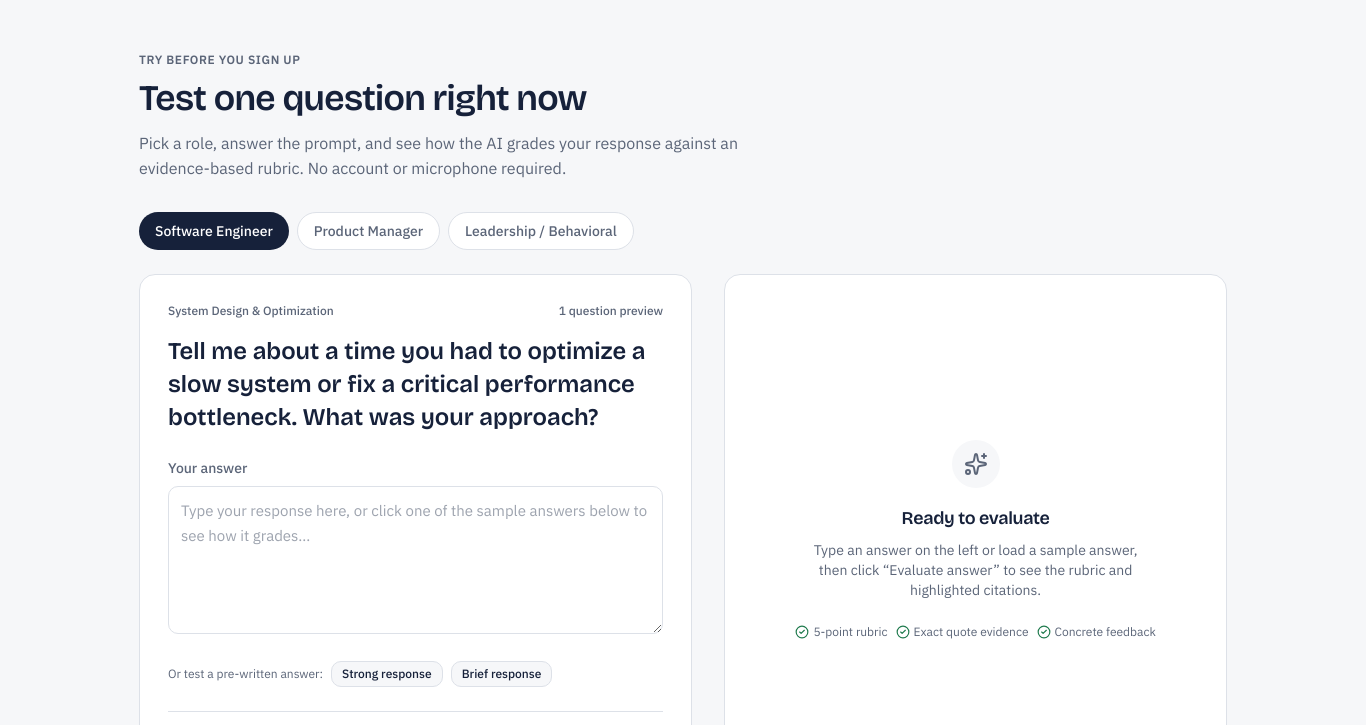
SampleQuestionPreview › loads a sample answer and evaluates it against the rubric
The image size is (1366, 725).
expect the heading "Test one question right now" is shown: met, box [139,77,587,120]
expect the heading "Ready to evaluate" is shown: met, box [902,504,1050,532]
# Click "Strong response"
Click the button "Strong response": (387, 674) [331,661,443,687]
(page scrolled)
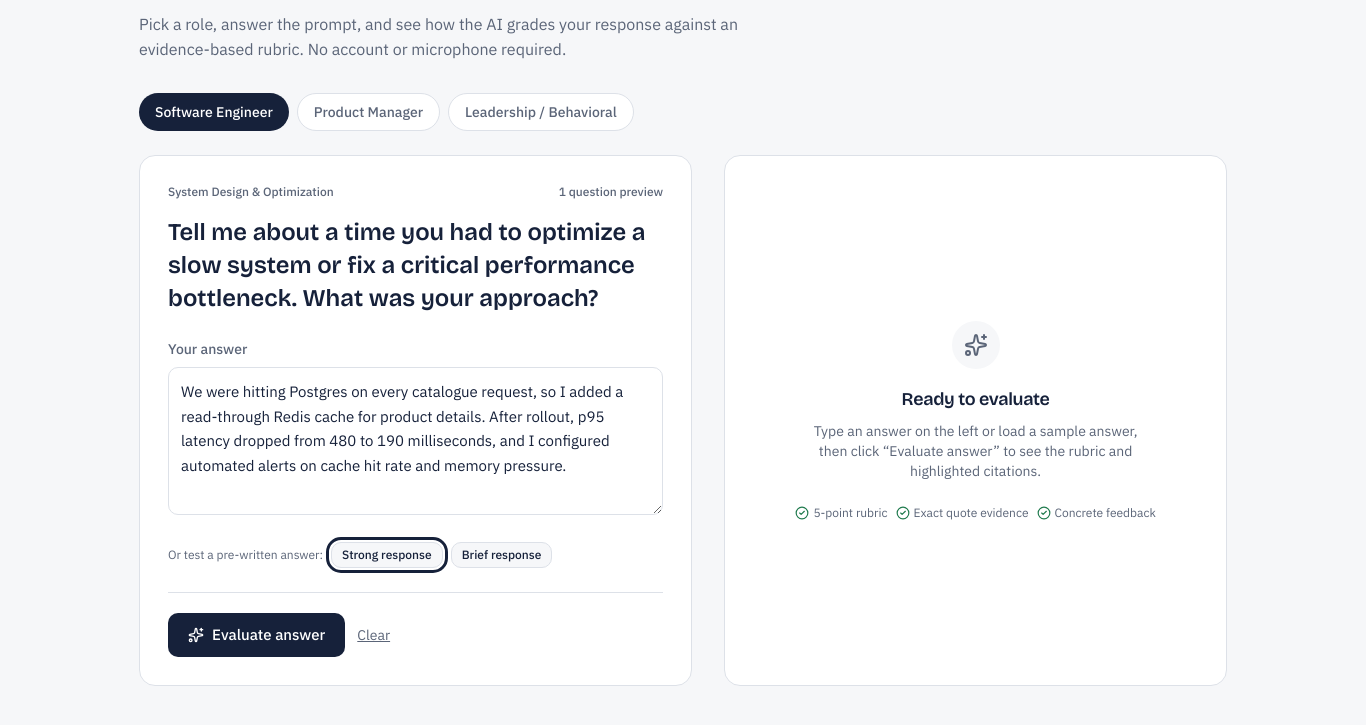
Click the button "Evaluate answer": (257, 635) [168,613,345,657]
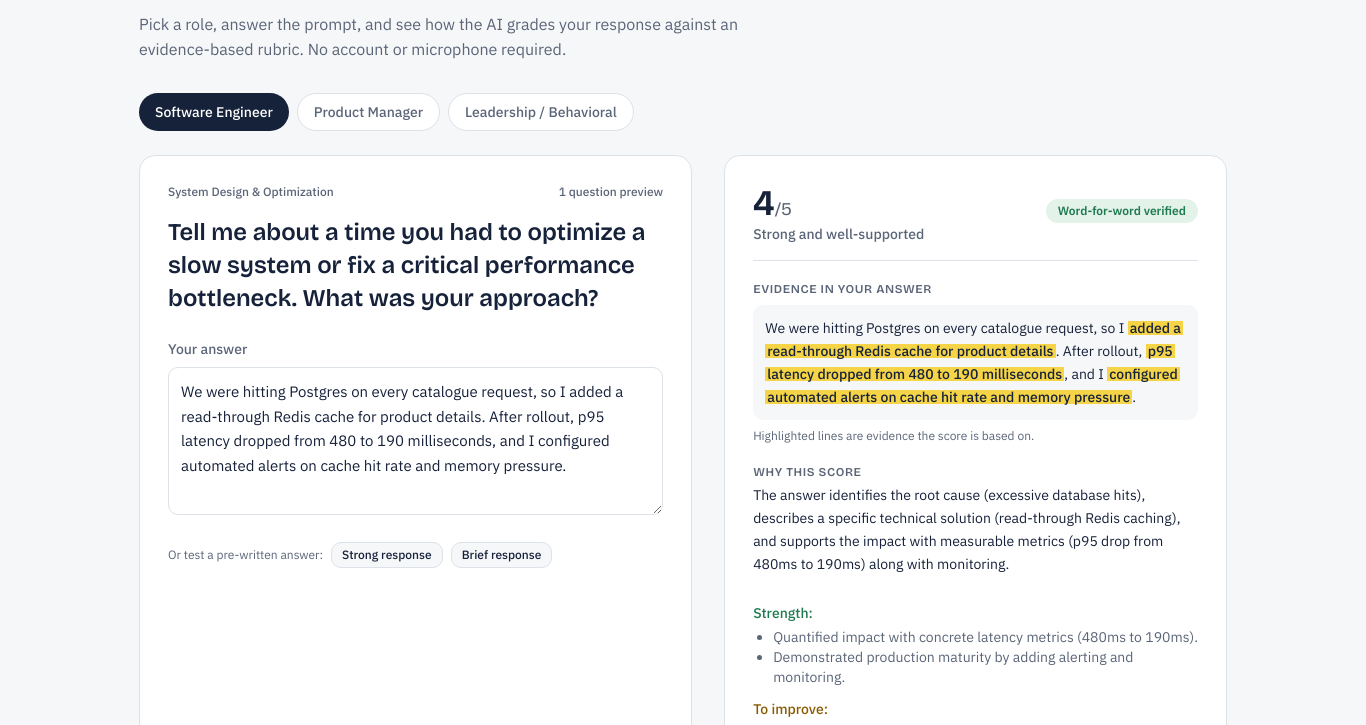
expect the text "Word-for-word verified" is shown: met, box [1046,199,1198,223]
expect the text "4" is shown: met, box [753,182,775,225]
expect the text "Strong and well-supported" is shown: met, box [753,224,924,244]
